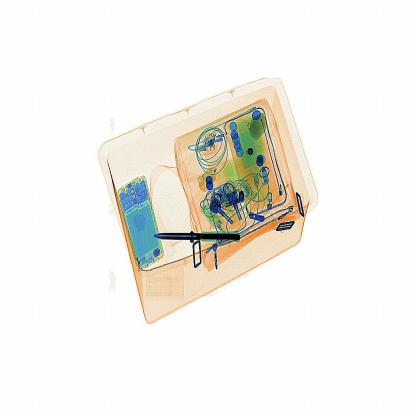gun: (136, 219, 262, 254)
